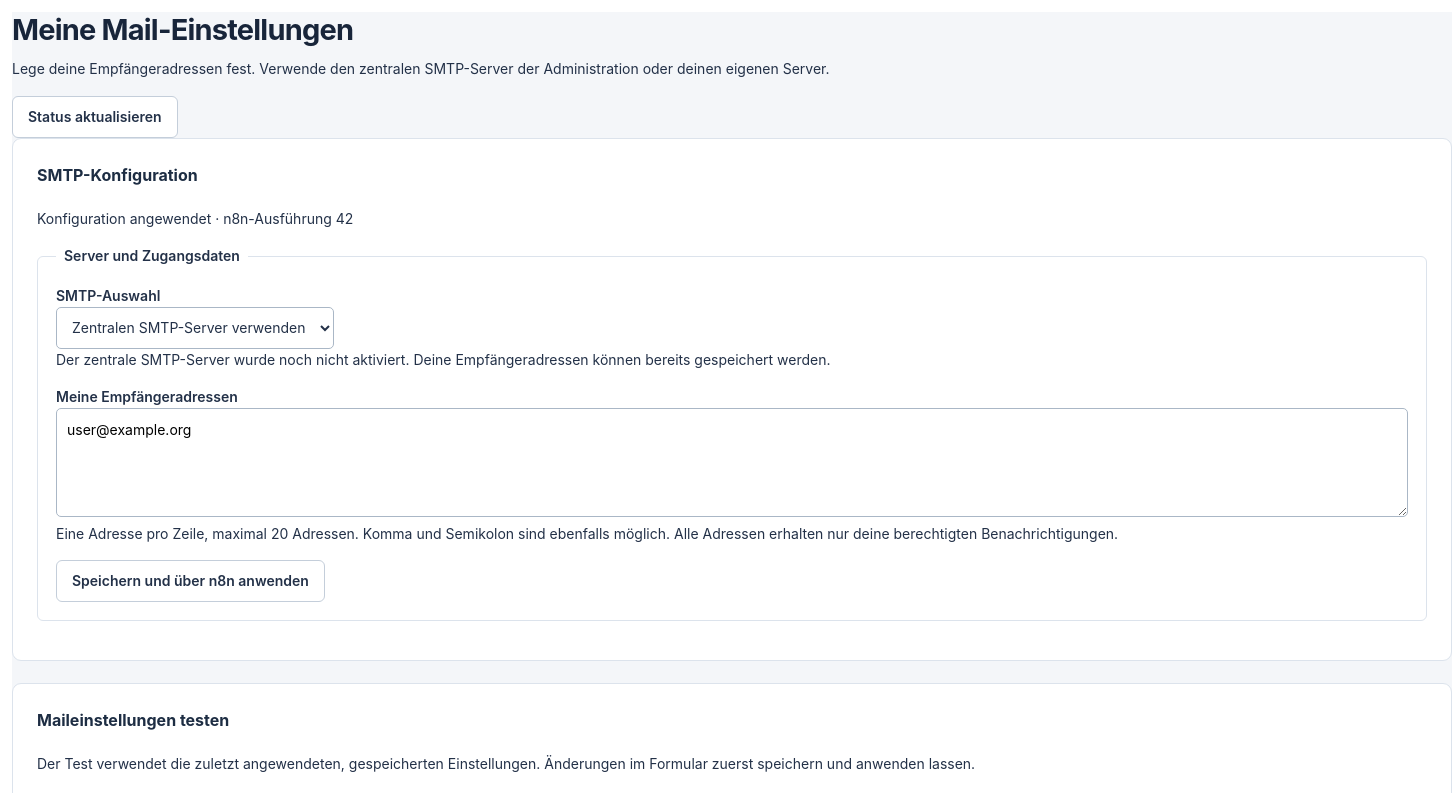
Test: allows a user to select their own SMTP server
Check: the field labelled "SMTP-Passwort" is not shown
Select "Eigenen SMTP-Server verwenden" in the dropdown labelled "SMTP-Auswahl" at (195, 328), box [56,307,334,349]
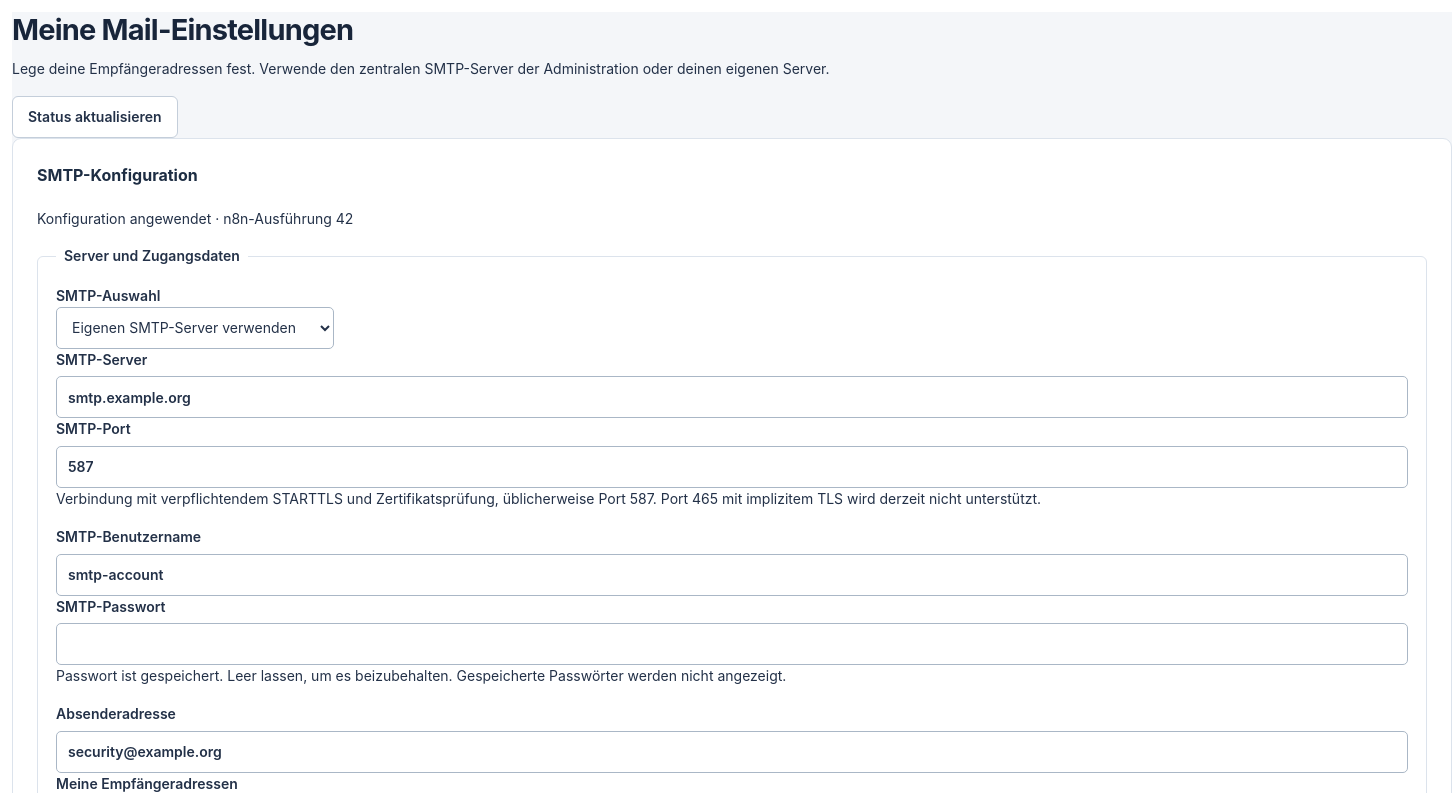
Check: the field labelled "SMTP-Server" holds "smtp.example.org", box [56,376,1408,418]
Check: the password field labelled "SMTP-Passwort" is empty, box [56,623,1408,665]
